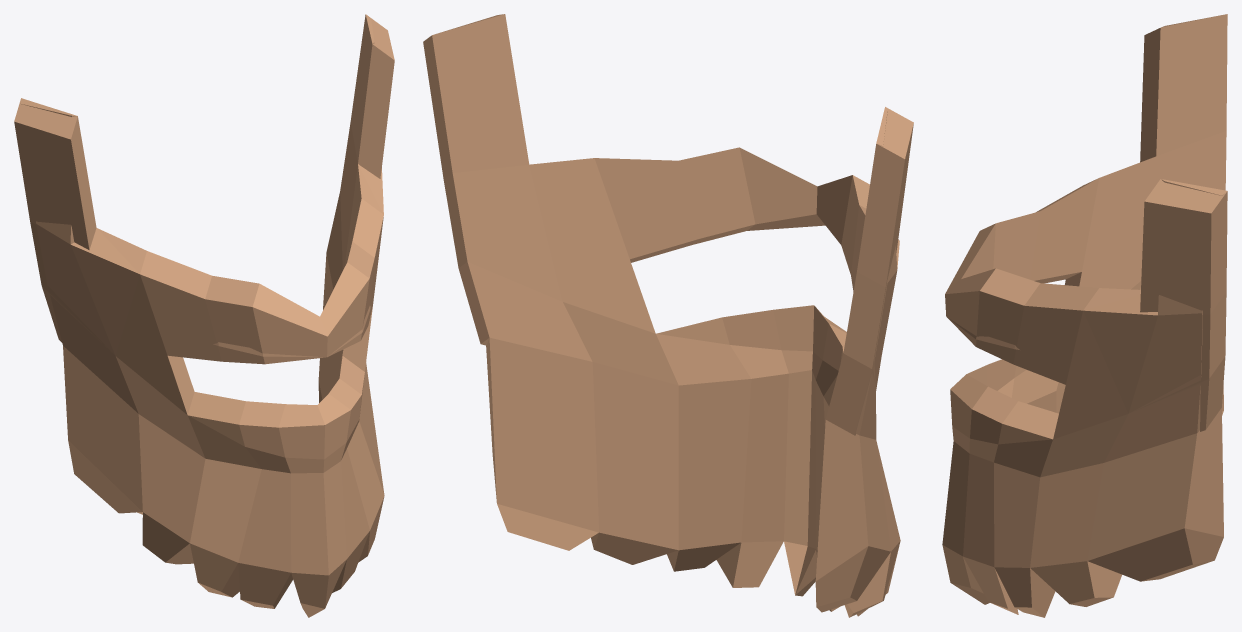
File: AssetForCHARED.fbx_Barba.fbx
3 views of the same model, side by side, from view 1: azimuth 30°, elevation 25°; view 2: azimuth 150°, elevation 25°; view 3: azimuth 270°, elevation 25° (orthographic). The views are drawn at different scales.
Visible parts, largest first — view 1: Barba.001, Barba.002, Barba.003; view 2: Barba.001, Barba.002; view 3: Barba.001, Barba.002.
Part boxes in pixels (x1,y1,x2,y2): Barba.001: (14,14,394,473); Barba.002: (20,14,384,617); Barba.003: (213,306,370,357); Barba.001: (423,14,913,435); Barba.002: (440,14,900,617); Barba.001: (945,14,1227,477); Barba.002: (942,15,1226,617).
Size of the model in its own units: 15.99 by 19.52 by 10.04.
1 material, 1 textured.
